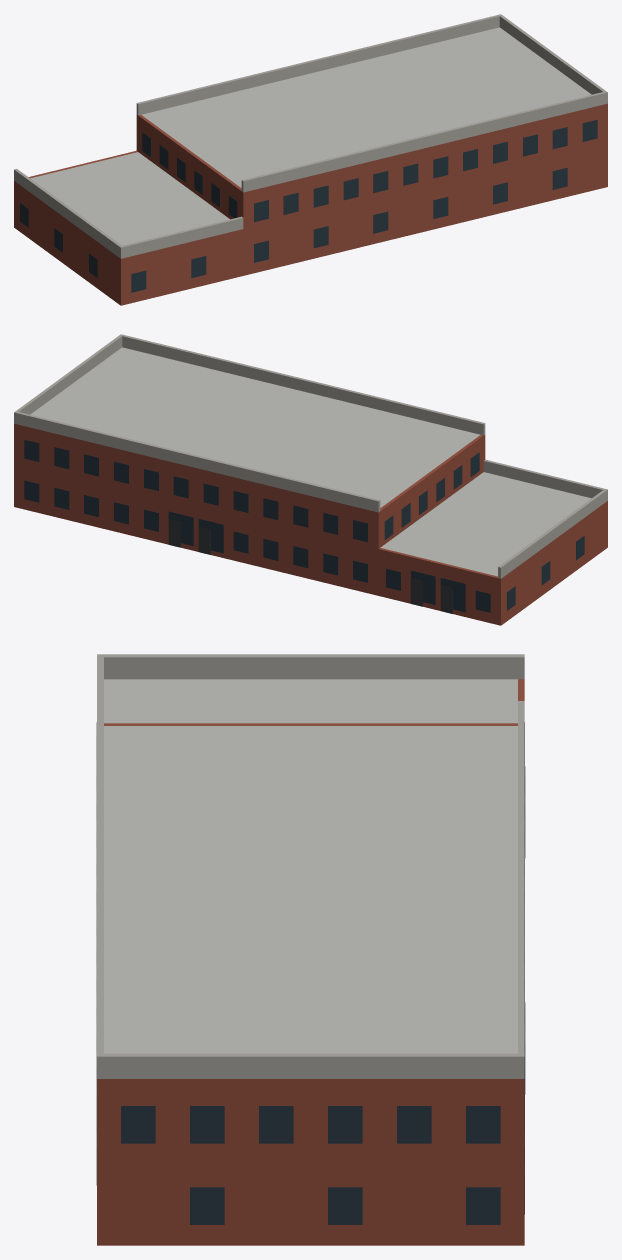
Rendered from bld_school_quest.glb.
3 renders of one model, top to bottom at view 1: azimuth 30°, elevation 25°; view 2: azimuth 150°, elevation 25°; view 3: azimuth 270°, elevation 25°, orthographic. The views are drawn at different scales.
Visible parts, largest first — view 1: bld_school_quest-col; view 2: bld_school_quest-col; view 3: bld_school_quest-col.
Boxes of the visible parts, left/top/right/bottom form: bld_school_quest-col: left=14, top=14, right=607, bottom=305; bld_school_quest-col: left=14, top=334, right=607, bottom=625; bld_school_quest-col: left=96, top=654, right=525, bottom=1245.
Bounding box in the file's own units: 48.92 × 9.07 × 18.63.
